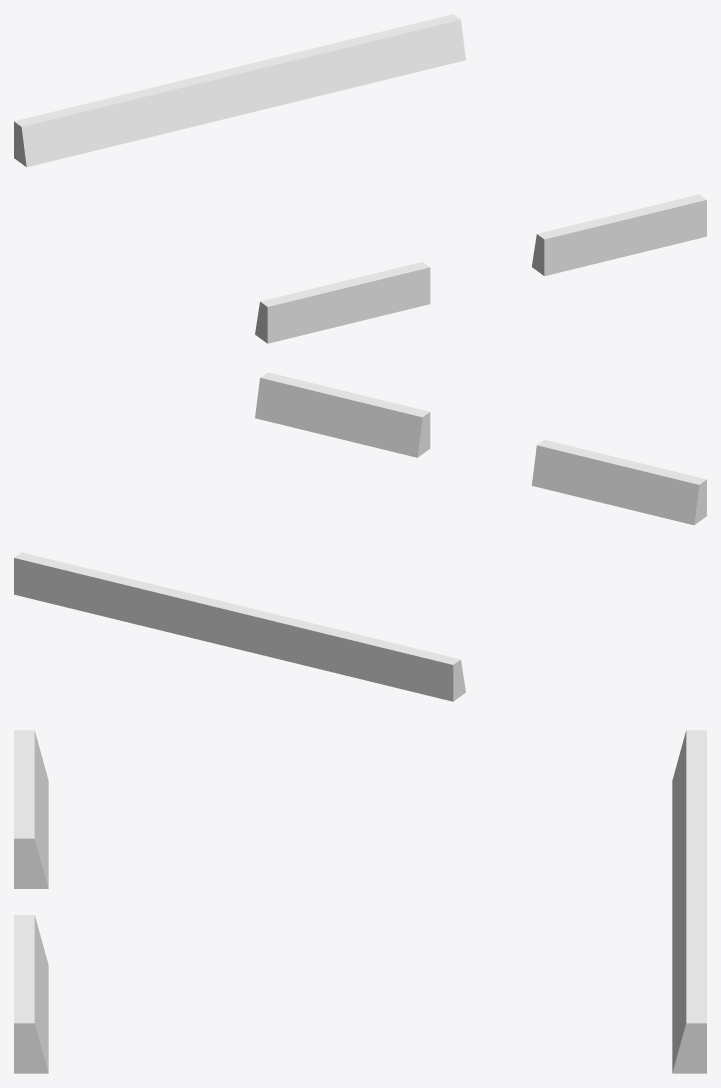
Rendered from road-driveway-single-barrier.glb.
3 views of the same model, one above another, from view 1: azimuth 30°, elevation 25°; view 2: azimuth 150°, elevation 25°; view 3: azimuth 270°, elevation 25° (orthographic). The views are drawn at different scales.
Visible parts, largest first — view 1: road-driveway-single-barrier; view 2: road-driveway-single-barrier; view 3: road-driveway-single-barrier.
Boxes of the visible parts, bbox=[...] form: road-driveway-single-barrier: bbox=[14, 14, 706, 343]; road-driveway-single-barrier: bbox=[14, 372, 706, 701]; road-driveway-single-barrier: bbox=[14, 730, 706, 1073].
Size of the model in its own units: 1 by 0.08 by 1.
1 material, 1 textured.
